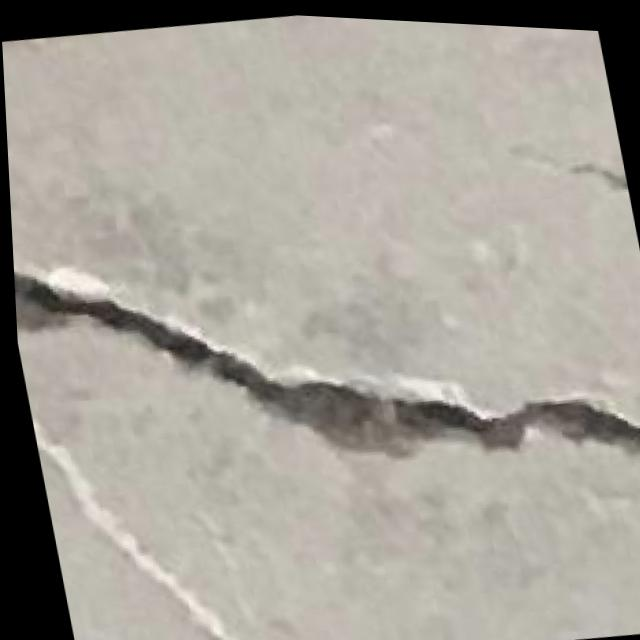Crack: (7, 160, 640, 543), (30, 403, 249, 640)
